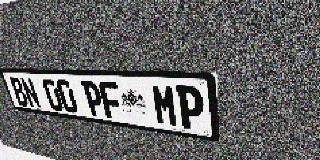0: (55, 79, 79, 114), (41, 79, 64, 112)
B: (8, 77, 30, 107)
F: (98, 81, 124, 120)
M: (151, 84, 179, 128)
N: (20, 78, 42, 109)
P: (176, 85, 205, 131), (81, 81, 106, 117)
